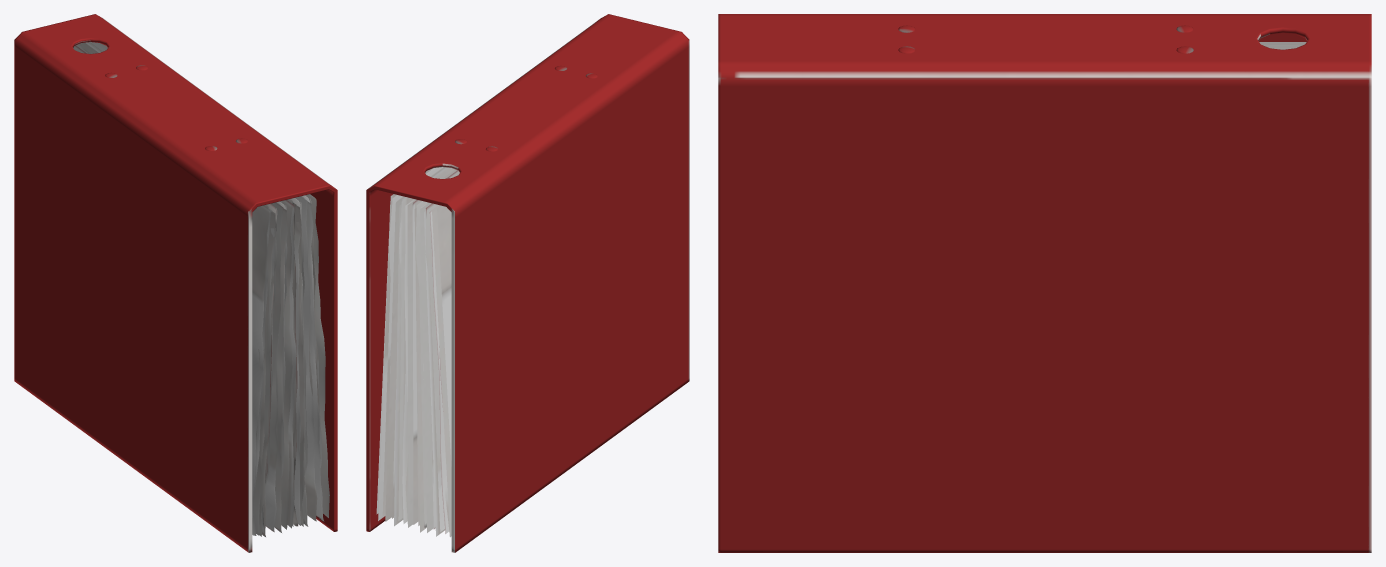
File: red_book.obj
The picture shows the model from 3 angles, left to right: view 1: azimuth 30°, elevation 25°; view 2: azimuth 150°, elevation 25°; view 3: azimuth 270°, elevation 25°; orthographic projection. The views are drawn at different scales.
Visible parts, largest first — view 1: red_book_Chocofur_Office_06.000, red_book_Chocofur_Office_06.002; view 2: red_book_Chocofur_Office_06.000, red_book_Chocofur_Office_06.002; view 3: red_book_Chocofur_Office_06.000.
Part boxes in pixels (x1,y1,x2,y2): red_book_Chocofur_Office_06.000: [14, 14, 337, 552]; red_book_Chocofur_Office_06.002: [73, 42, 329, 536]; red_book_Chocofur_Office_06.000: [366, 14, 689, 552]; red_book_Chocofur_Office_06.002: [376, 167, 459, 537]; red_book_Chocofur_Office_06.000: [718, 14, 1371, 552].
Size of the model in its own units: 0.0755 by 0.2833 by 0.3455.
3 materials, 3 textured.
